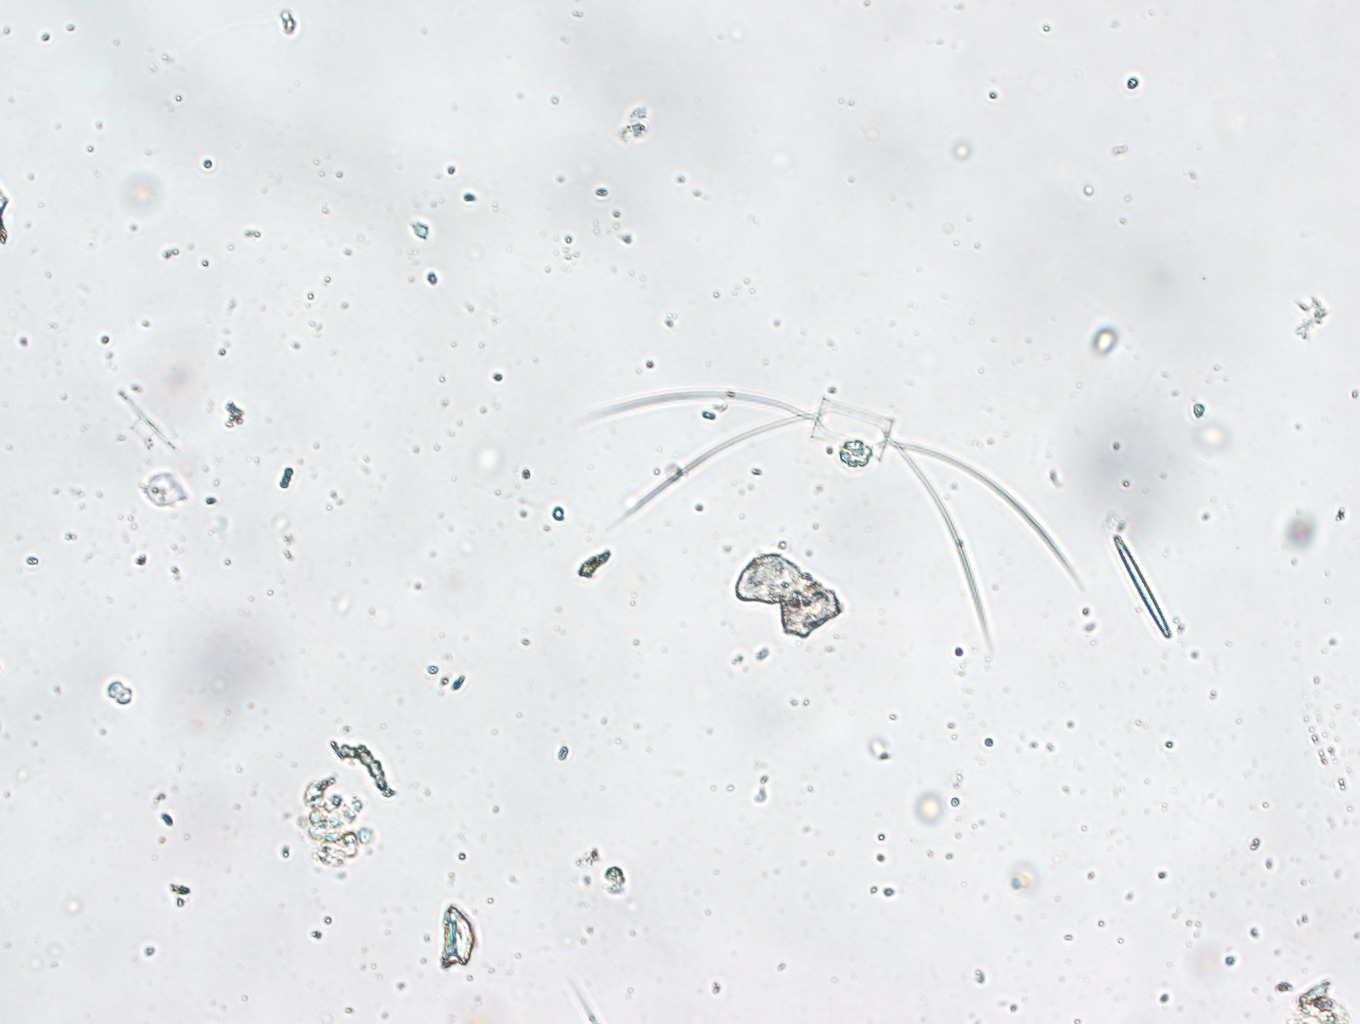chaetoceros: (591, 357, 1094, 605)
